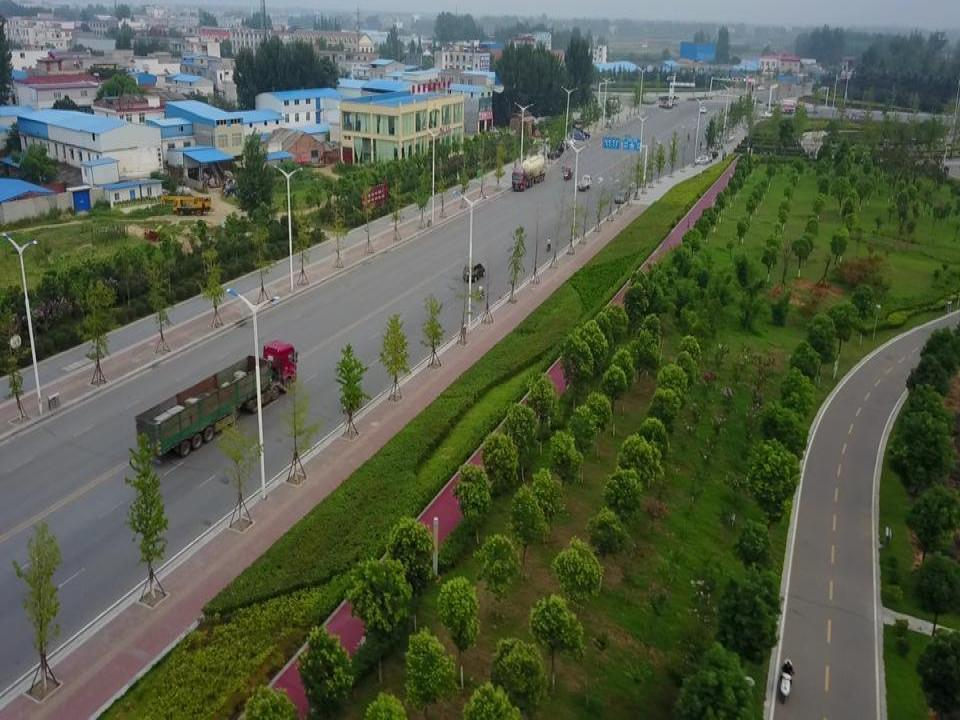car: (463, 263, 486, 281), (222, 183, 242, 196), (554, 137, 574, 148), (614, 189, 628, 203), (574, 129, 591, 139), (547, 149, 562, 159), (570, 131, 585, 140), (489, 125, 502, 135), (694, 156, 708, 165), (705, 150, 718, 158), (761, 110, 774, 118), (701, 154, 712, 162), (699, 105, 707, 114), (659, 96, 672, 101), (533, 130, 540, 138), (753, 97, 762, 103), (766, 101, 775, 107), (757, 85, 765, 91)
truck: (133, 339, 298, 459), (512, 154, 546, 190), (576, 174, 592, 190), (778, 99, 796, 109)
van: (805, 105, 818, 114), (859, 111, 873, 117)
